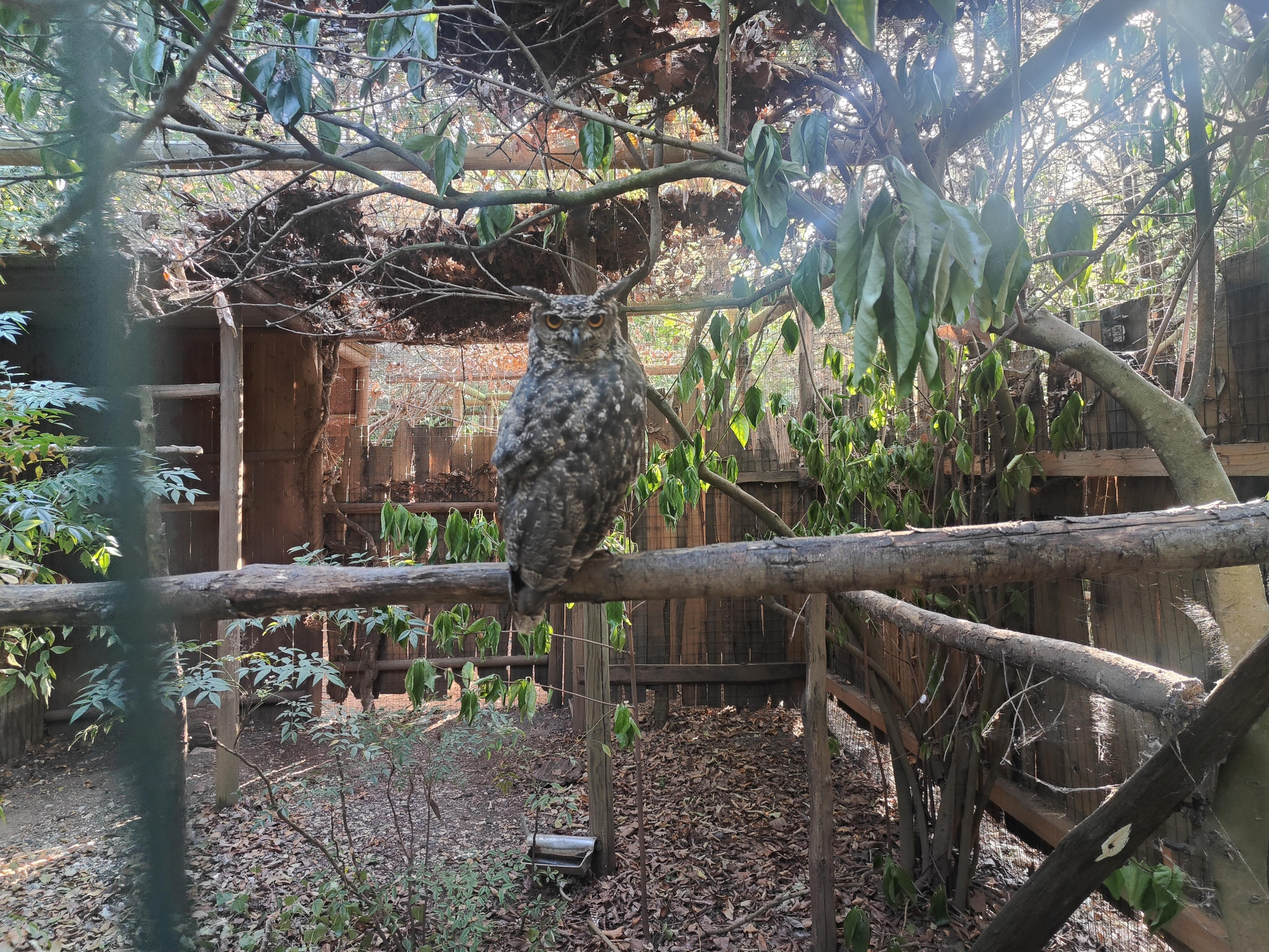apple: (489, 277, 647, 636)
